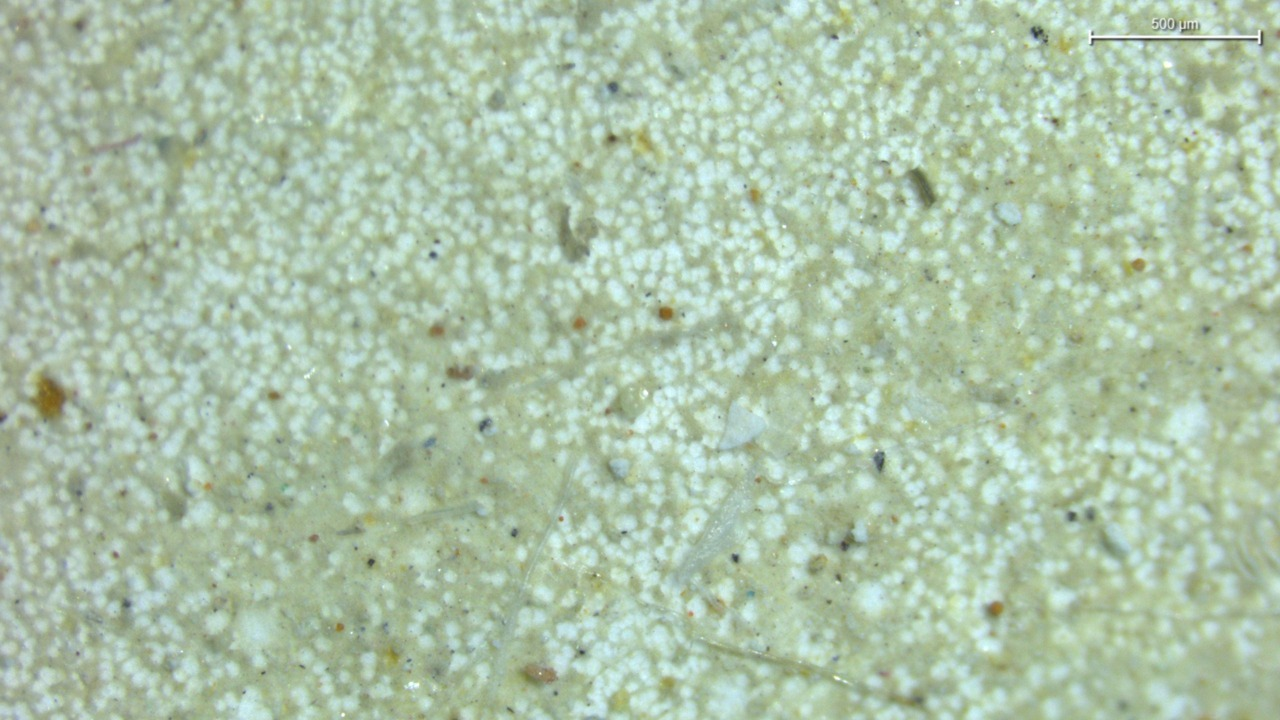microplastic_fragment: (718, 401, 766, 451), (608, 459, 630, 482)
